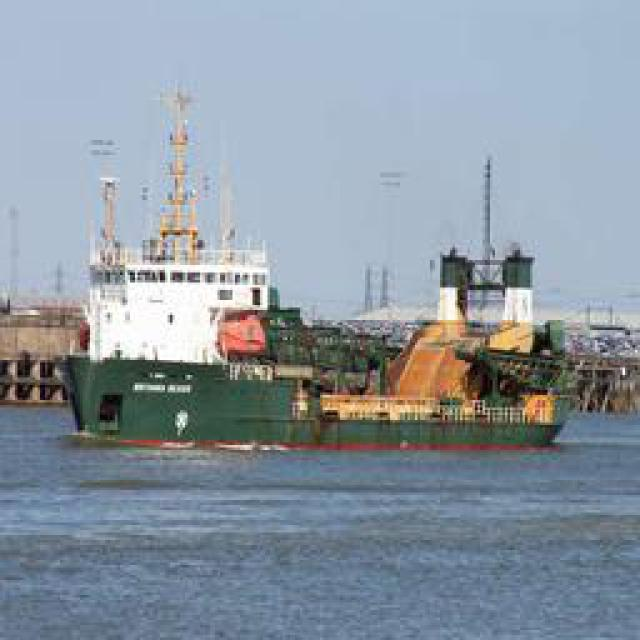Ship: (74, 85, 574, 466)
